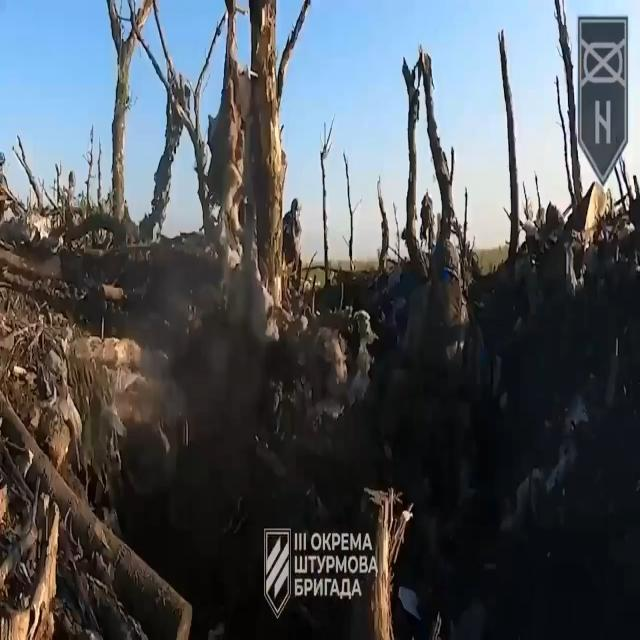MIL_Pax: (404, 240, 469, 367), (282, 198, 301, 273)
